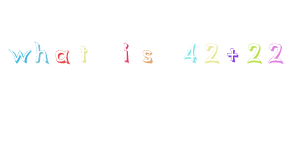+: (226, 46, 240, 63)
2: (244, 42, 264, 66), (266, 41, 285, 66), (204, 41, 221, 66)
4: (183, 40, 199, 66)
a: (54, 48, 71, 66)
h: (33, 38, 50, 65)
i: (121, 41, 131, 64)
s: (140, 49, 154, 65)
t: (77, 43, 88, 63)
w: (8, 47, 32, 65)
